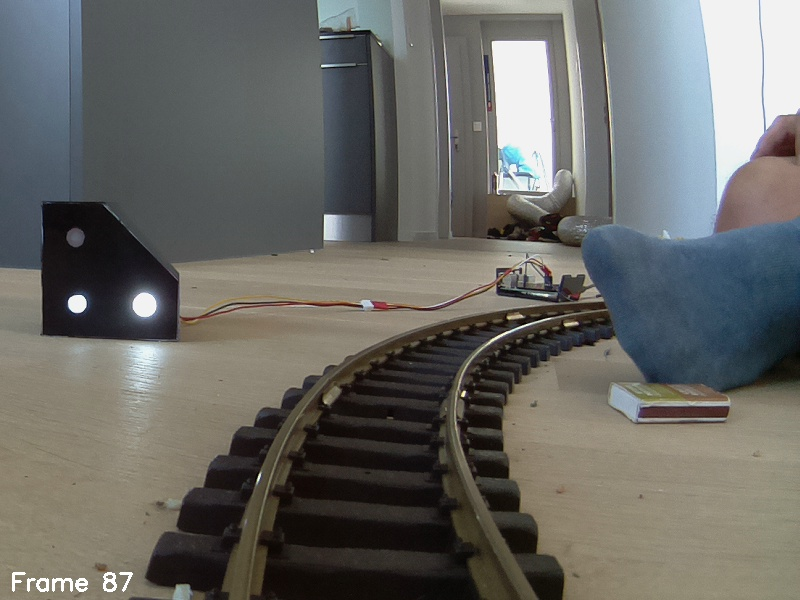Halt: (41, 202, 180, 340)
